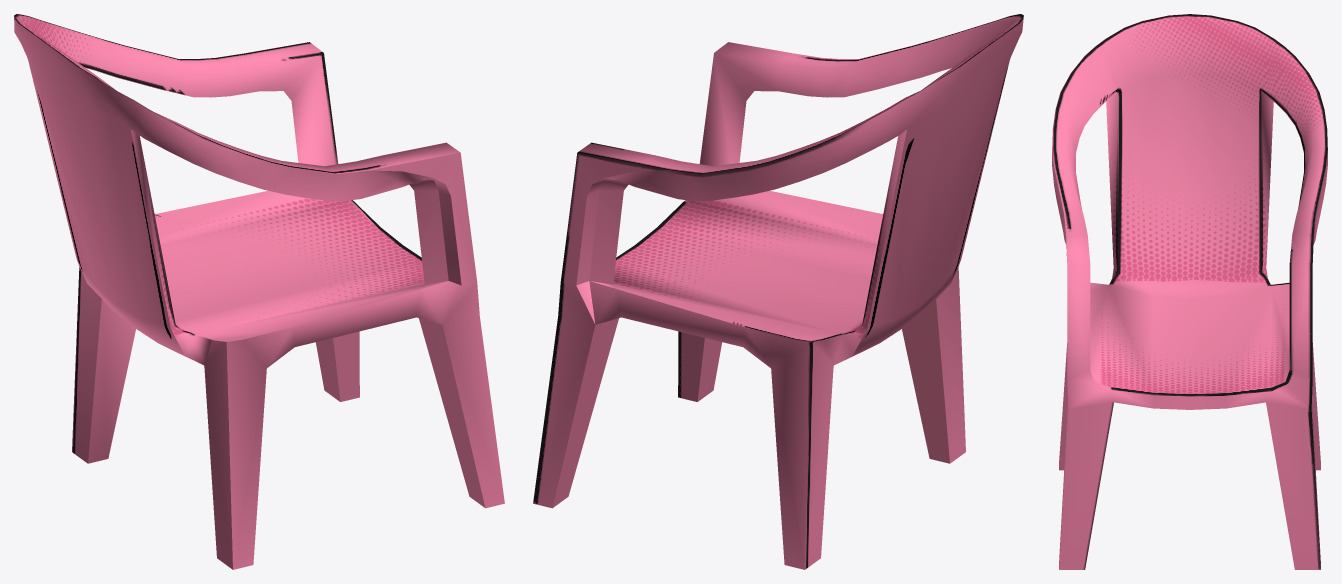
File: plastic chair.glb
3 renders of one model, left to right at view 1: azimuth 30°, elevation 25°; view 2: azimuth 150°, elevation 25°; view 3: azimuth 270°, elevation 25°, orthographic. The views are drawn at different scales.
Parts seen in each view (by area): view 1: Box008; view 2: Box008; view 3: Box008.
Part boxes in pixels (x1,y1,x2,y2): Box008: (14, 14, 504, 569); Box008: (533, 14, 1023, 569); Box008: (1052, 14, 1327, 569).
Size of the model in its own units: 1.81 by 2.25 by 1.39.
1 material, 1 textured.
